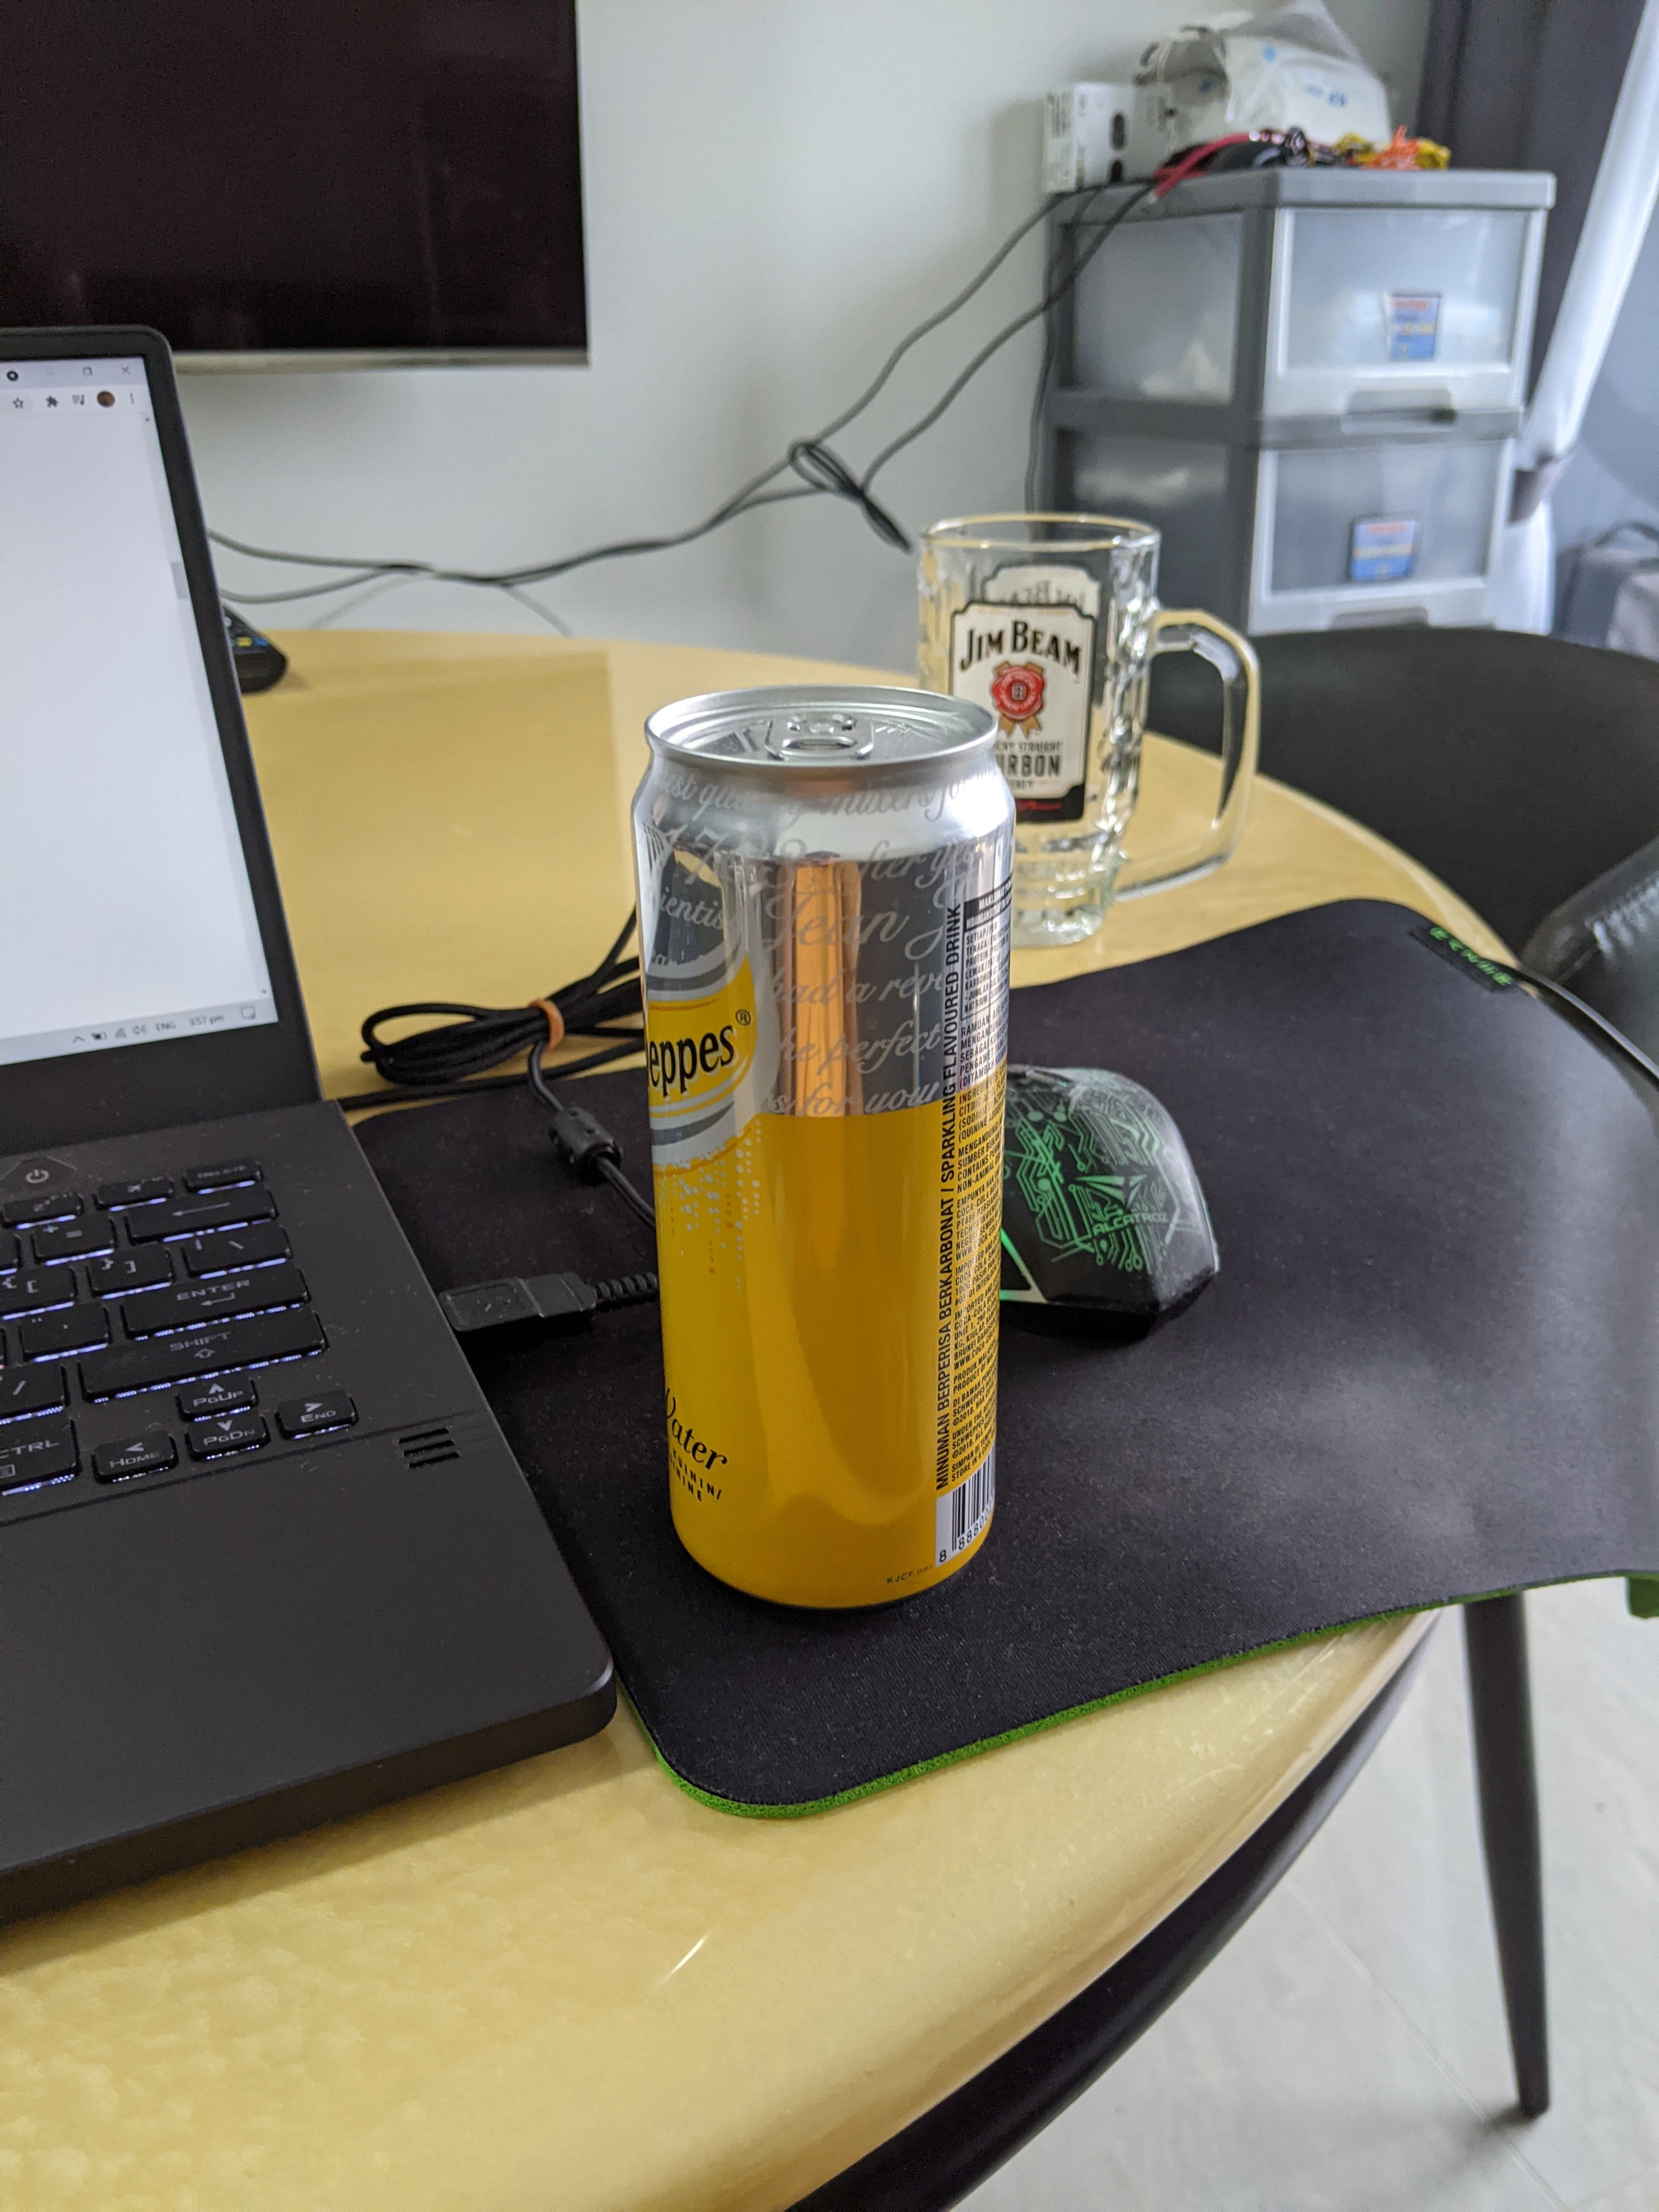schweppes drink can tonic water: (613, 667, 1035, 1635)
